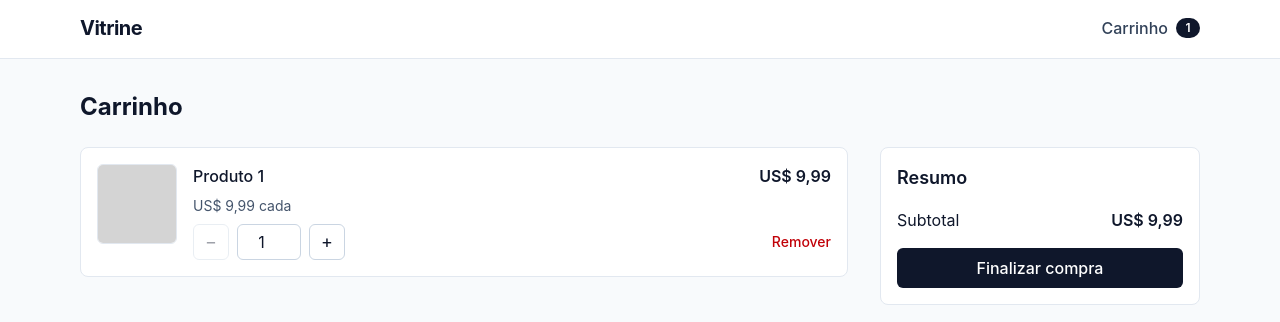
Test: CartPage › remover tira a linha
Click the button with aria-label "Remover Produto 1" at (801, 242), box [772, 232, 831, 252]
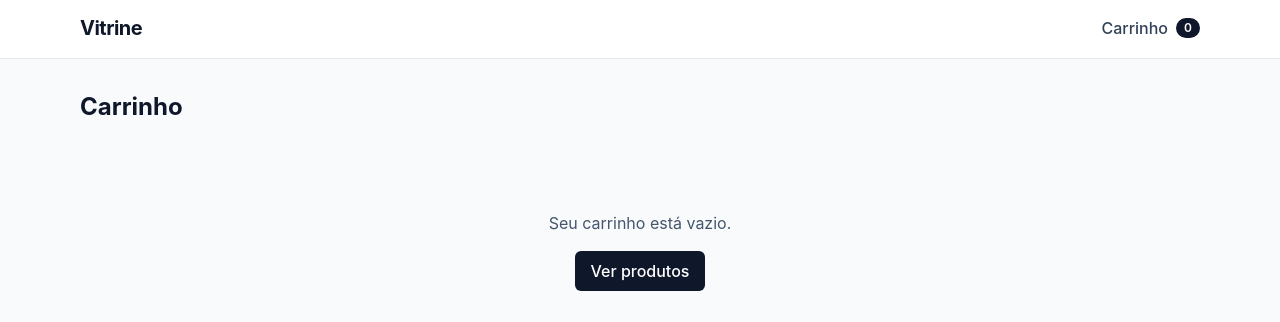
Expected: the text "Seu carrinho está vazio." is shown, [549, 211, 731, 235]
Expected: the link with aria-label "Carrinho (0 itens)" is shown, [1102, 16, 1200, 40]
